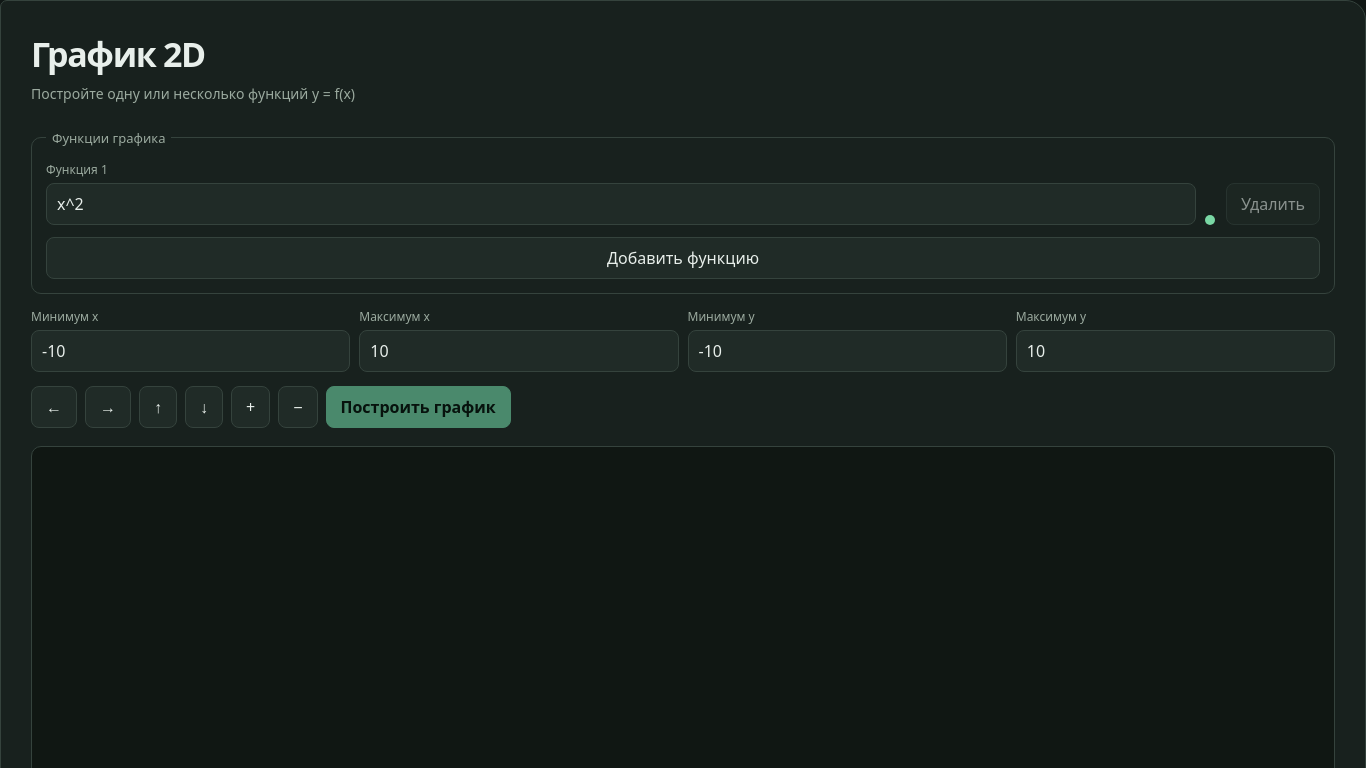
Test case: Graph2DView › zooms around the current center without silently clamping the range
Click the button named "Увеличить масштаб". click: (251, 407)
box: [231,386,270,428]
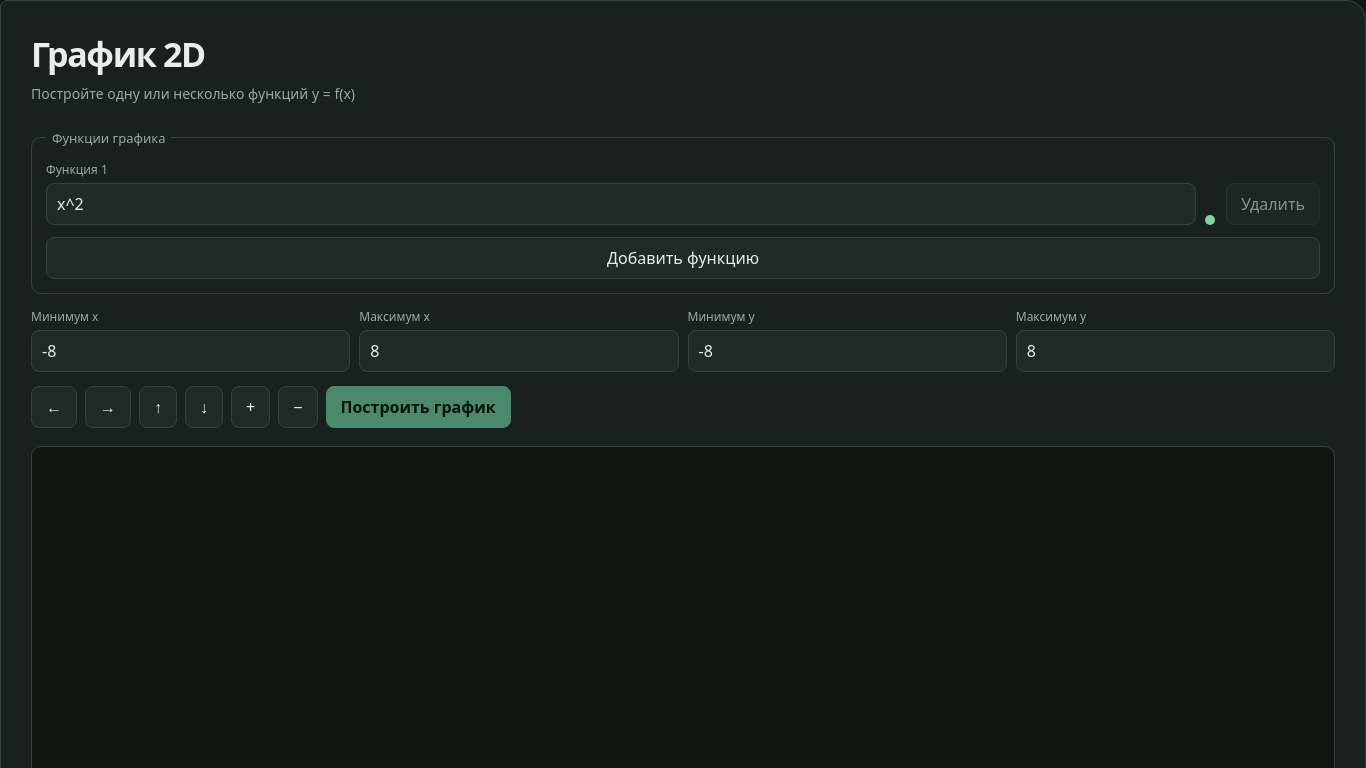
Result: the number field labelled "Минимум x" holds "-8" at [31,330,350,372]
Result: the number field labelled "Максимум x" holds "8" at [359,330,679,372]
